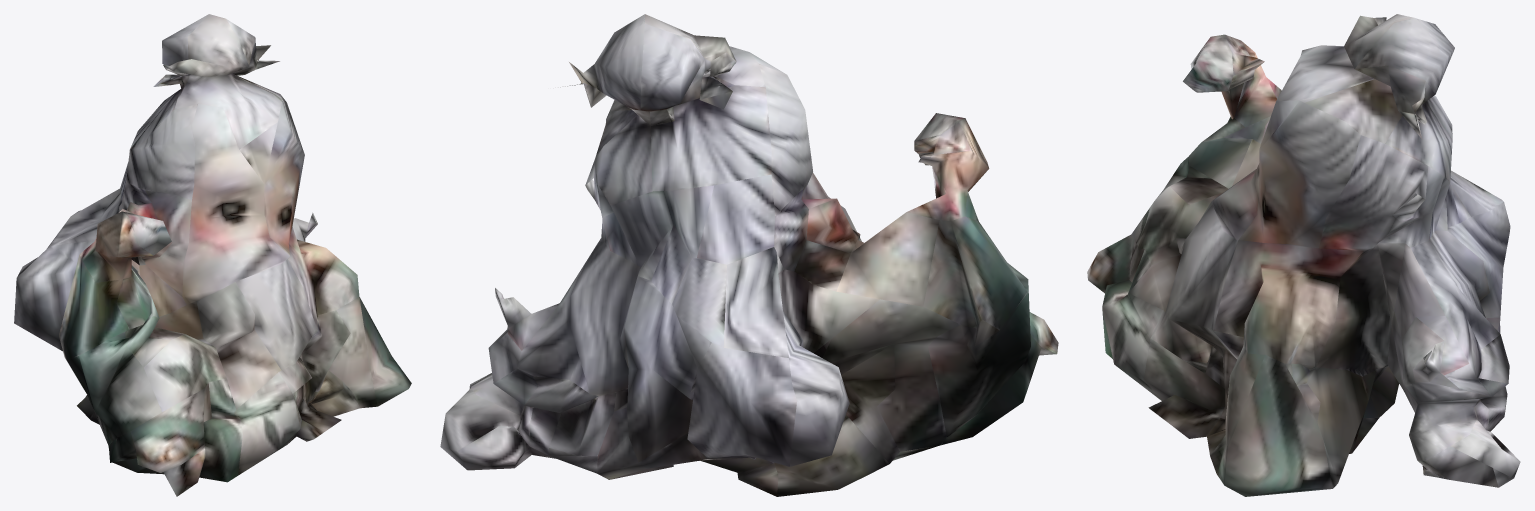
The model's file is Grandpa2.glb.
3 views of the same model, side by side, from view 1: azimuth 30°, elevation 25°; view 2: azimuth 150°, elevation 25°; view 3: azimuth 270°, elevation 25° (orthographic). The views are drawn at different scales.
Parts seen in each view (by area): view 1: 3d66-Editable_mesh-21006133-001; view 2: 3d66-Editable_mesh-21006133-001; view 3: 3d66-Editable_mesh-21006133-001.
Boxes of the visible parts, x1,y1,x2,y2 form: 3d66-Editable_mesh-21006133-001: (14,14,411,496); 3d66-Editable_mesh-21006133-001: (440,14,1058,496); 3d66-Editable_mesh-21006133-001: (1087,14,1520,496).
Size of the model in its own units: 0.6396 by 0.6153 by 0.5876.
1 material, 1 textured.
